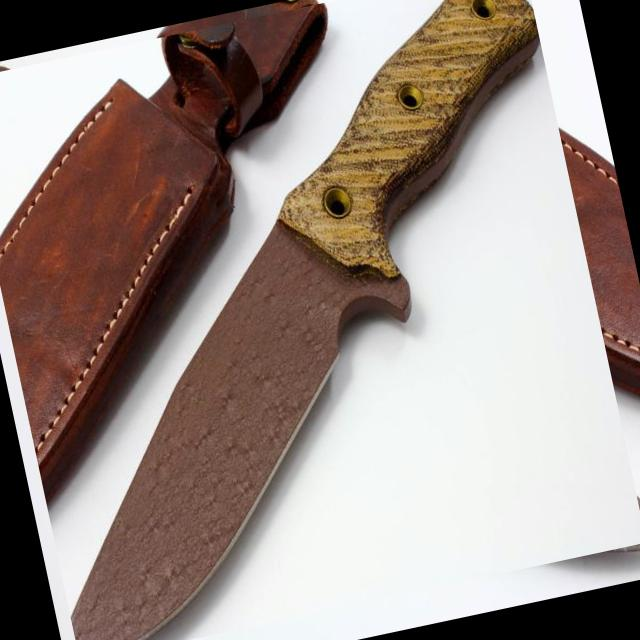Knife: (73, 0, 539, 640)
